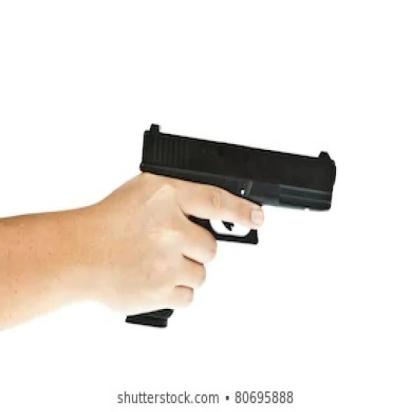Gun: (128, 120, 339, 314)
